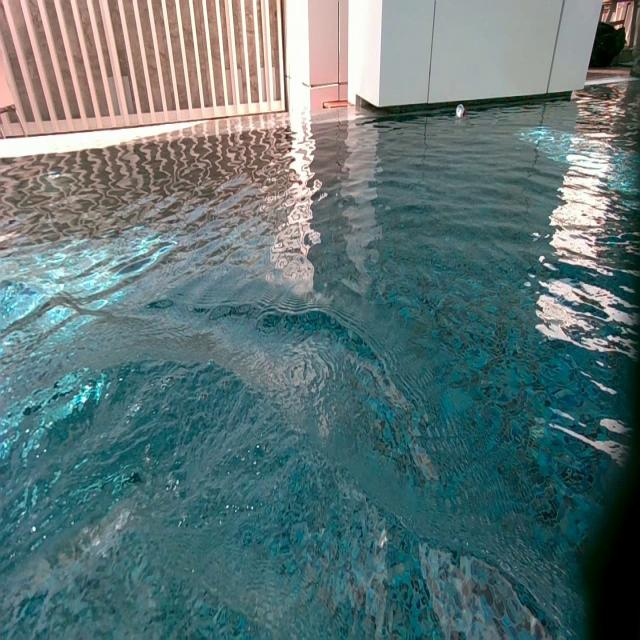Cans: (456, 103, 468, 118)
